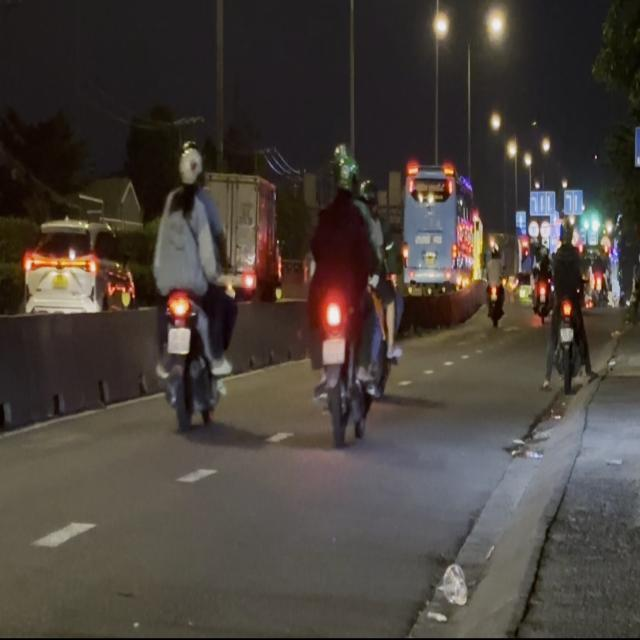helmet: (330, 144, 358, 197), (176, 142, 202, 192)
licenseplate: (149, 140, 236, 432), (304, 145, 386, 445)
nohelmet: (167, 327, 190, 353), (322, 338, 344, 363)
